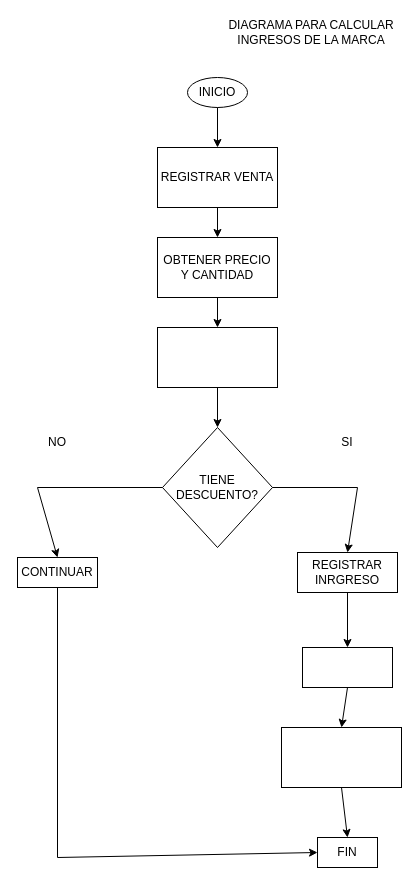
Image size: 419x885. Some labels were removed from this diagram. The box of each missing label's shape, as (x1, y1, x2, y2) in pixels:
ACTUALIZAR INGRESO: (302, 646, 392, 688)
CALCULAR TOTAL DE VENTA: (156, 326, 278, 388)
MOSTRAR GANANCIAS: (280, 726, 402, 788)
